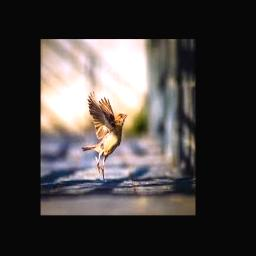Sparrow: (82, 91, 128, 182)
